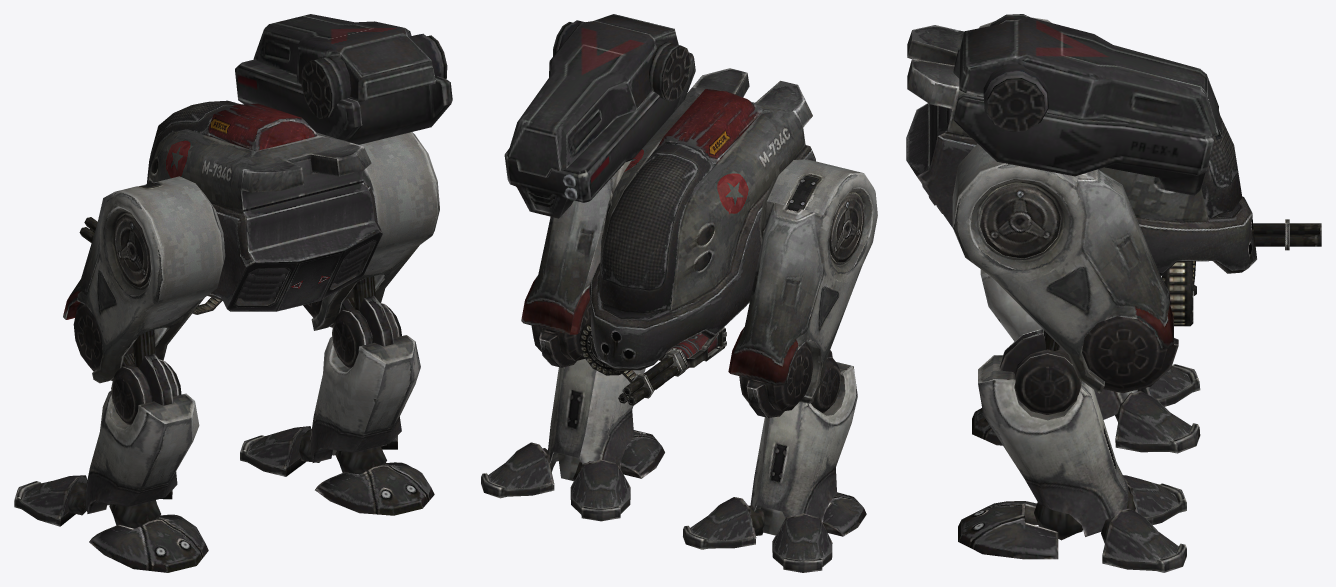
Rendered from mechdevastator.dae.
The picture shows the model from 3 angles, left to right: view 1: azimuth 30°, elevation 25°; view 2: azimuth 150°, elevation 25°; view 3: azimuth 270°, elevation 25°; orthographic projection. The views are drawn at different scales.
Parts seen in each view (by area): view 1: devastator; view 2: devastator; view 3: devastator.
Boxes of the visible parts, <box> form: devastator: <box>14,14,452,572</box>; devastator: <box>481,14,877,572</box>; devastator: <box>906,14,1321,572</box>.
Bounding box in the file's own units: 187 × 168 × 225.
1 material, 1 textured.
